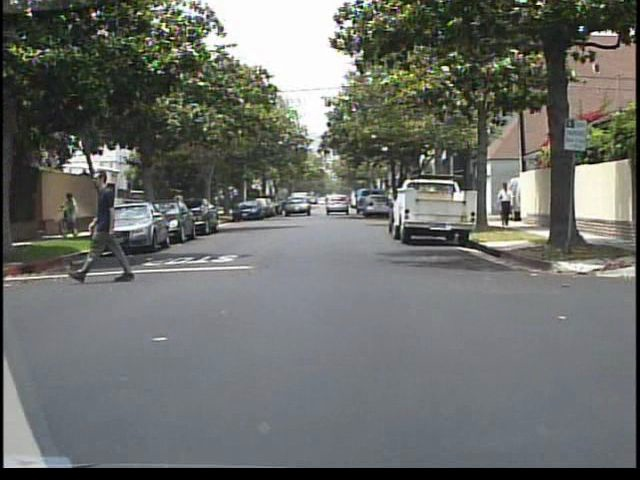person: (75, 165, 148, 291), (495, 175, 520, 232), (58, 189, 82, 237), (169, 186, 189, 226)
